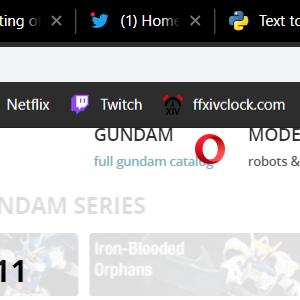opera: (195, 134, 225, 164)
